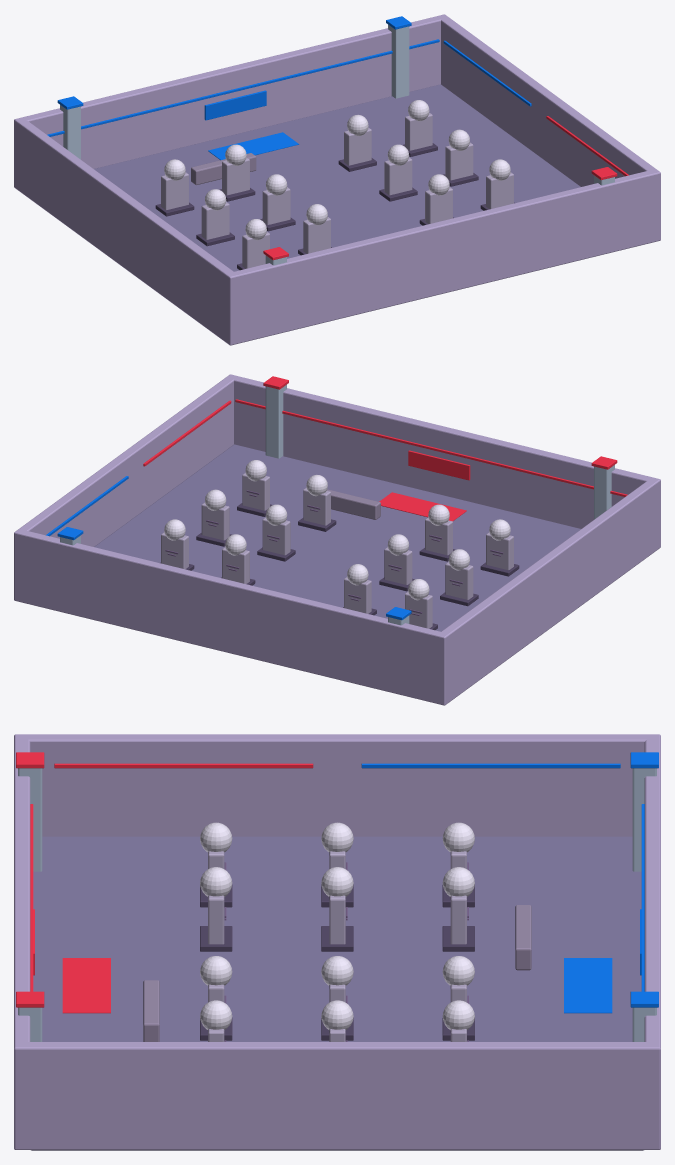
File: Cemiterio.glb
The picture shows the model from 3 angles, top to bottom: view 1: azimuth 30°, elevation 25°; view 2: azimuth 150°, elevation 25°; view 3: azimuth 270°, elevation 25°; orthographic projection. The views are drawn at different scales.
Visible parts, largest first — view 1: Cemiterio_PB_b9a9d6, Cemiterio_PB_837ba5, Cemiterio_PB_b7accd, Cemiterio_PB_e9e3f7, Cemiterio_PB_087bff, Cemiterio_PB_b5c6df, Cemiterio_PB_544969, Cemiterio_PB_ff304b, Cemiterio_PB_9a8cac; view 2: Cemiterio_PB_b9a9d6, Cemiterio_PB_837ba5, Cemiterio_PB_b7accd, Cemiterio_PB_e9e3f7, Cemiterio_PB_ff304b, Cemiterio_PB_b5c6df, Cemiterio_PB_544969, Cemiterio_PB_9a8cac, Cemiterio_PB_087bff, Cemiterio_PB_78628e; view 3: Cemiterio_PB_b9a9d6, Cemiterio_PB_837ba5, Cemiterio_PB_e9e3f7, Cemiterio_PB_087bff, Cemiterio_PB_ff304b, Cemiterio_PB_b7accd, Cemiterio_PB_b5c6df, Cemiterio_PB_544969, Cemiterio_PB_9a8cac.
Part boxes in pixels (box(x1,y1,x2,y2)): Cemiterio_PB_b9a9d6: box(14, 14, 660, 345); Cemiterio_PB_837ba5: box(94, 84, 580, 271); Cemiterio_PB_b7accd: box(161, 113, 513, 268); Cemiterio_PB_e9e3f7: box(164, 100, 510, 240); Cemiterio_PB_087bff: box(47, 16, 531, 160); Cemiterio_PB_b5c6df: box(60, 24, 614, 265); Cemiterio_PB_544969: box(155, 143, 514, 270); Cemiterio_PB_ff304b: box(263, 116, 628, 260); Cemiterio_PB_9a8cac: box(191, 153, 256, 185); Cemiterio_PB_b9a9d6: box(14, 374, 660, 705); Cemiterio_PB_837ba5: box(94, 444, 580, 631); Cemiterio_PB_b7accd: box(161, 473, 513, 628); Cemiterio_PB_e9e3f7: box(164, 460, 510, 600); Cemiterio_PB_ff304b: box(143, 376, 627, 521); Cemiterio_PB_b5c6df: box(60, 384, 614, 625); Cemiterio_PB_544969: box(160, 503, 519, 630); Cemiterio_PB_9a8cac: box(327, 489, 380, 519); Cemiterio_PB_087bff: box(46, 476, 411, 620); Cemiterio_PB_78628e: box(165, 490, 503, 615); Cemiterio_PB_b9a9d6: box(14, 734, 660, 1149); Cemiterio_PB_837ba5: box(31, 836, 643, 1150); Cemiterio_PB_e9e3f7: box(200, 822, 474, 1029); Cemiterio_PB_087bff: box(361, 752, 658, 1013); Cemiterio_PB_ff304b: box(16, 752, 313, 1013); Cemiterio_PB_b7accd: box(208, 851, 466, 1041); Cemiterio_PB_b5c6df: box(18, 768, 656, 1041); Cemiterio_PB_544969: box(200, 884, 474, 1040); Cemiterio_PB_9a8cac: box(143, 905, 531, 1041).
Size of the model in its own units: 25.76 by 4.7 by 22.4.
